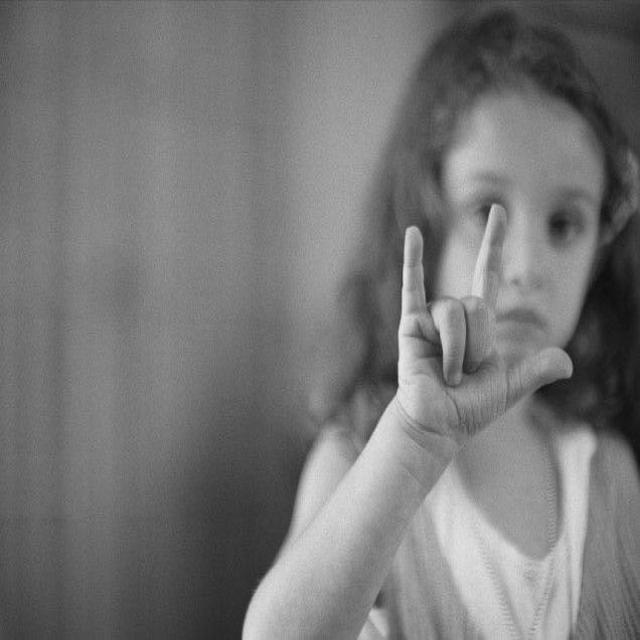i love you: (392, 198, 578, 466)
